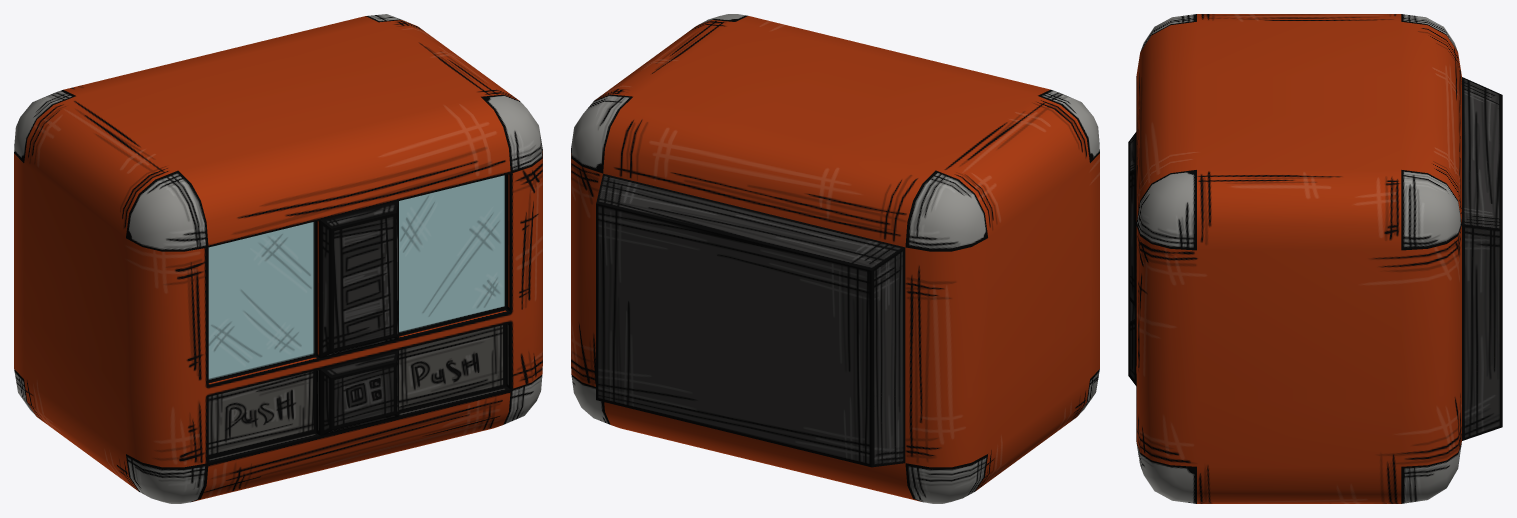
The model's file is VendingChest.FBX.
3 renders of one model, left to right at view 1: azimuth 30°, elevation 25°; view 2: azimuth 150°, elevation 25°; view 3: azimuth 270°, elevation 25°, orthographic.
Visible parts, largest first — view 1: Chest; view 2: Chest; view 3: Chest.
Boxes of the visible parts, bbox=[...] form: Chest: bbox=[14, 14, 542, 503]; Chest: bbox=[571, 14, 1099, 503]; Chest: bbox=[1128, 14, 1502, 503].
Bounding box in the file's own units: 58.67 × 44.81 × 46.6.
